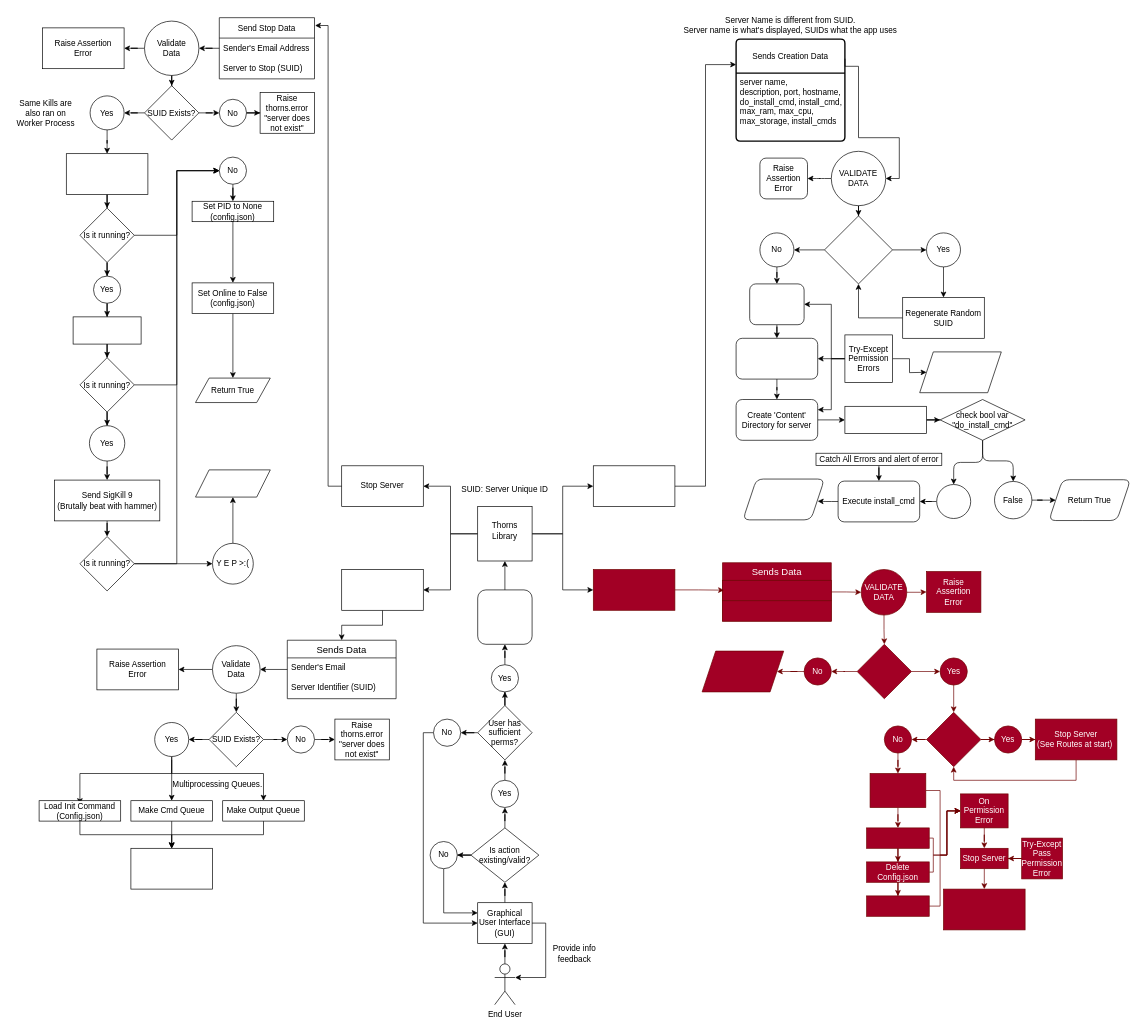
This 1142x1030 diagram has some shape labels left out. Here are the shapes that lost their labels. From the top down, the centre of each, then its label:
At [107,173]: "Send Saved SigKill (Default: SIGINT 2)".
At [858,249]: "is SUID already existing?".
At [776,304]: "Create Folder for SUID".
At [106,330]: "Send SigKill 15 (Soft Terminate)".
At [776,358]: "Create Config.json File".
At [960,372]: "Alert user. return False.".
At [885,420]: "Log User's Action".
At [232,483]: "Return False (of shame)".
At [634,486]: "Create Server".
At [783,499]: "Return Result bool".
At [953,501]: "True".
At [382,589]: "Start Server".
At [634,589]: "Delete Server".
At [776,590]: "Existing SUID".
At [504,616]: "RosePanel API or CLI allows action".
At [776,610]: "Senders Email address".
At [742,671]: "Return -1".
At [884,671]: "Server Exists?".
At [953,739]: "Is Server Running?".
At [897,790]: "Delete Content Folder Contents".
At [897,837]: "Delete Content Folder".
At [171,868]: "Multiprocessing Process name=SUID".
At [897,905]: "Delete Server Folder".
At [984,909]: "Alert User Server cannot be deleted due to perm error".
